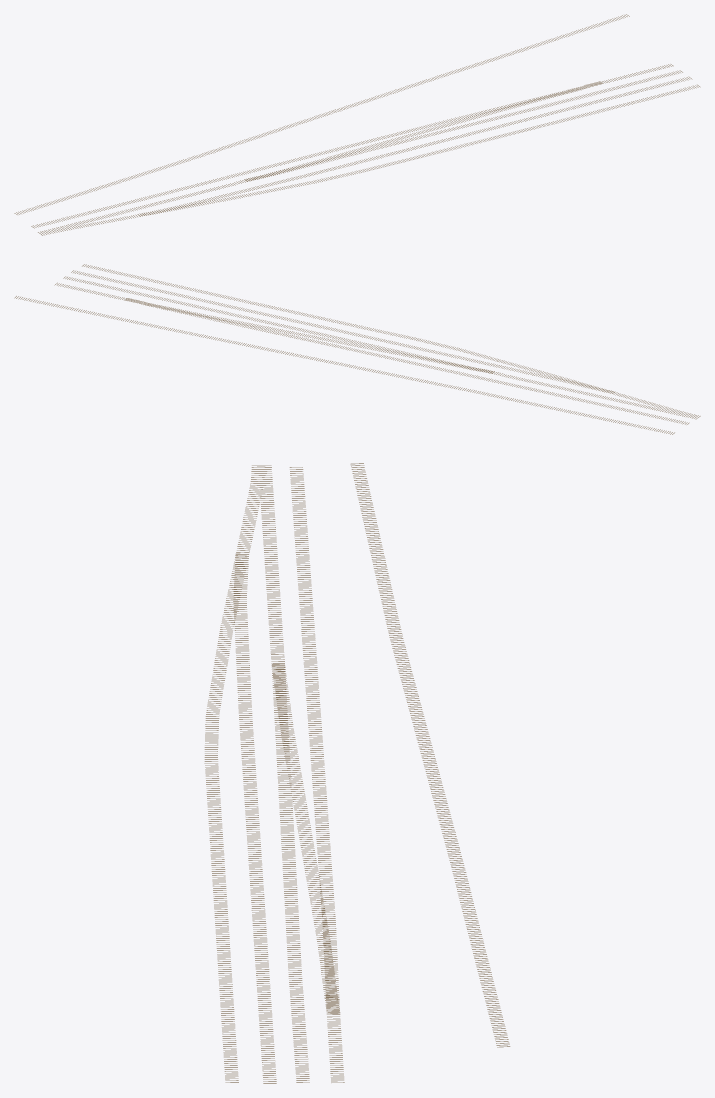
File: c_1627_17822_rail_sleeper.glb
3 views of the same model, one above another, from view 1: azimuth 30°, elevation 25°; view 2: azimuth 150°, elevation 25°; view 3: azimuth 270°, elevation 25° (orthographic). The views are drawn at different scales.
Parts seen in each view (by area): view 1: geometry_0; view 2: geometry_0; view 3: geometry_0.
Part boxes in pixels (x1,y1,x2,y2): geometry_0: (14, 14, 700, 235); geometry_0: (14, 264, 700, 434); geometry_0: (204, 463, 510, 1083).
Bounding box in the file's own units: 256 × 7.01 × 54.34.
